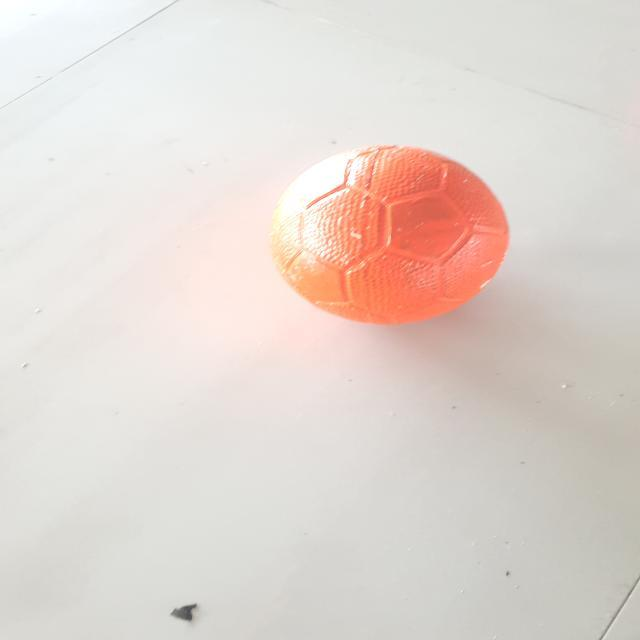bola: (258, 128, 521, 333)
